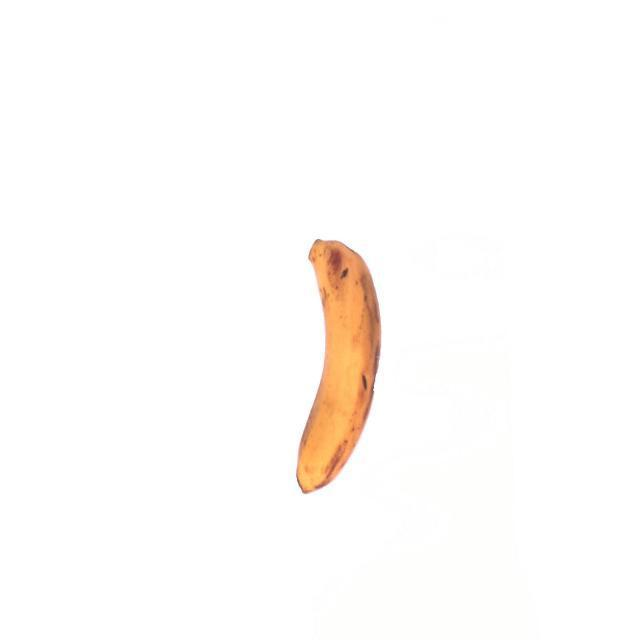Banana: (287, 230, 387, 504)
